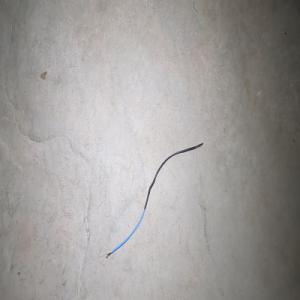Wire: (105, 142, 203, 258)
